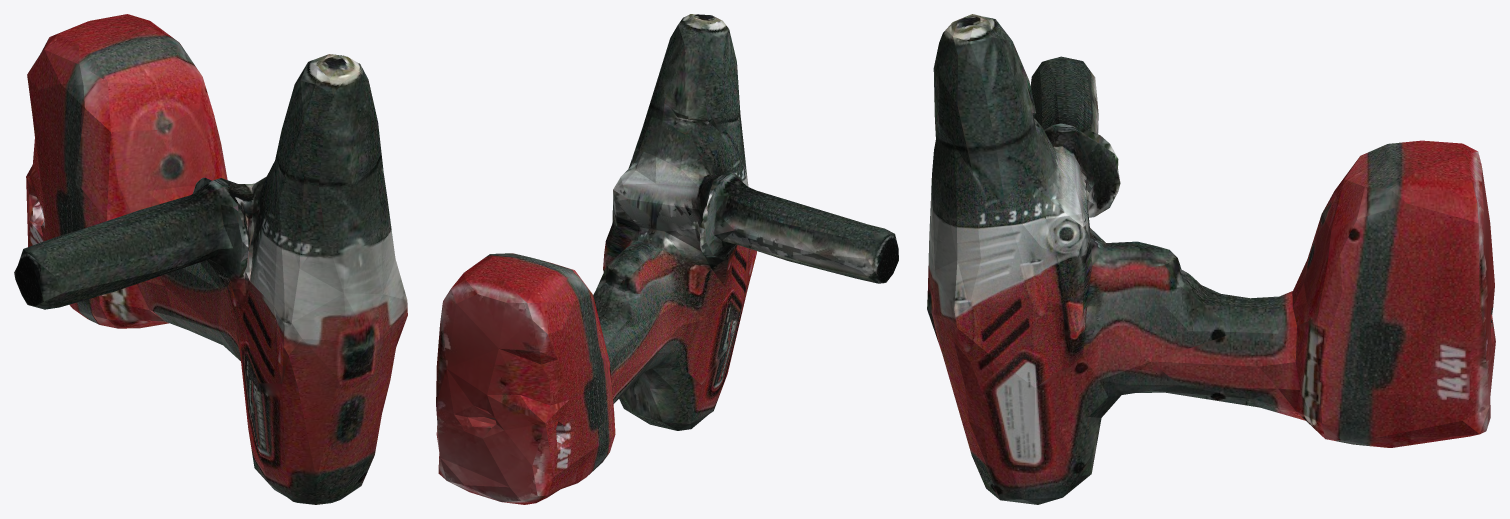
Rendered from 14_4v_cordless_drill.dae.
3 renders of one model, left to right at view 1: azimuth 30°, elevation 25°; view 2: azimuth 150°, elevation 25°; view 3: azimuth 270°, elevation 25°, orthographic. The views are drawn at different scales.
Parts seen in each view (by area): view 1: node; view 2: node; view 3: node.
Boxes of the visible parts, x1,y1,x2,y2 form: node: (14,14,407,504); node: (436,14,898,504); node: (927,14,1495,504).
Bounding box in the file's own units: 181 × 232 × 255.
Materials: 1 (1 with a texture image).
